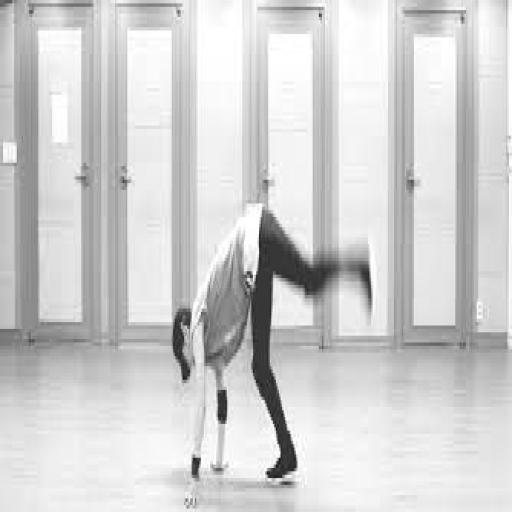dancing: (170, 196, 376, 492)
